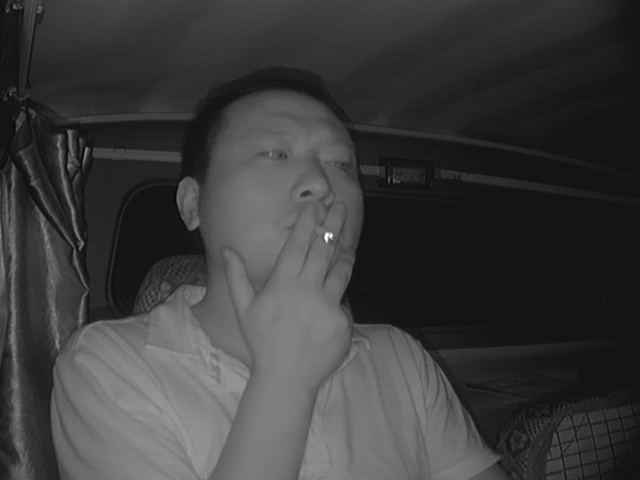hand: (262, 207, 363, 342)
